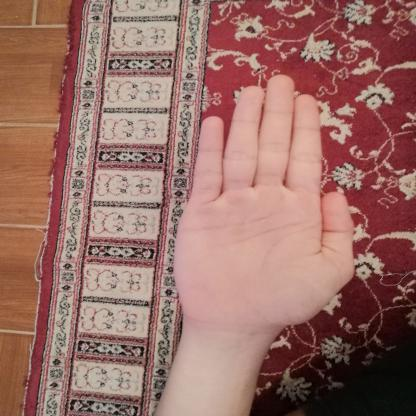SEEN: (155, 64, 371, 340)
